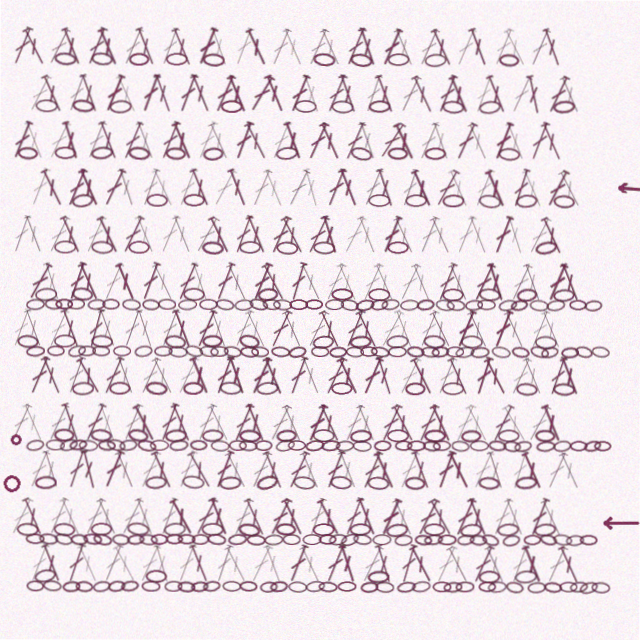chain: (255, 473, 280, 492), (349, 145, 373, 163), (534, 239, 558, 256), (34, 568, 58, 585), (238, 333, 261, 350), (349, 52, 372, 68), (478, 99, 501, 115), (71, 193, 94, 209), (478, 193, 501, 209), (164, 334, 187, 350), (312, 334, 335, 350), (127, 428, 150, 444), (293, 475, 316, 491), (238, 522, 261, 538), (386, 522, 409, 538), (460, 522, 483, 538), (340, 531, 361, 548), (53, 52, 76, 67), (90, 52, 113, 67), (312, 52, 335, 67), (71, 99, 94, 114), (552, 99, 575, 114), (90, 146, 113, 161), (127, 146, 150, 161), (275, 146, 298, 161), (515, 193, 538, 208), (71, 287, 94, 302), (478, 287, 501, 302), (386, 334, 409, 349), (423, 334, 446, 349), (145, 381, 168, 396), (219, 381, 242, 396), (256, 381, 279, 396), (182, 475, 205, 490), (330, 475, 353, 490), (515, 475, 538, 490), (127, 522, 150, 537), (164, 522, 187, 537), (497, 522, 520, 537), (534, 522, 557, 537), (515, 569, 538, 584), (579, 579, 600, 595), (257, 287, 279, 302), (516, 287, 538, 302), (441, 100, 464, 114), (201, 241, 224, 255), (349, 335, 372, 349), (90, 429, 113, 443), (145, 476, 168, 490), (219, 476, 242, 490), (367, 476, 390, 490), (478, 476, 501, 490), (481, 532, 501, 548), (248, 297, 269, 312), (529, 344, 550, 359), (106, 438, 127, 453), (275, 438, 296, 453), (202, 53, 224, 67), (424, 53, 446, 67), (109, 100, 131, 114), (331, 100, 353, 114), (202, 147, 224, 161), (498, 147, 520, 161), (553, 194, 575, 208), (91, 241, 113, 255), (276, 241, 298, 255), (313, 241, 335, 255), (35, 288, 57, 302), (553, 288, 575, 302), (17, 335, 39, 349), (91, 335, 113, 349), (535, 335, 557, 349), (72, 382, 94, 396), (516, 382, 538, 396), (553, 382, 575, 396), (165, 429, 187, 443), (202, 429, 224, 443), (239, 429, 261, 443), (276, 429, 298, 443), (350, 429, 372, 443), (35, 476, 57, 490), (17, 523, 39, 537), (54, 523, 76, 537), (368, 570, 390, 584), (67, 344, 87, 359), (184, 344, 204, 359), (574, 344, 594, 359), (59, 438, 79, 453), (583, 438, 603, 453), (539, 532, 559, 547), (498, 53, 519, 67), (17, 147, 38, 161), (165, 147, 186, 161), (461, 429, 482, 443), (405, 476, 426, 490), (165, 53, 187, 66), (387, 53, 409, 66), (35, 100, 57, 113), (220, 100, 242, 113), (294, 100, 316, 113), (368, 100, 390, 113), (54, 147, 76, 160), (424, 147, 446, 160), (146, 194, 168, 207), (183, 194, 205, 207), (368, 194, 390, 207), (405, 194, 427, 207), (442, 194, 464, 207), (54, 241, 76, 254), (128, 241, 150, 254), (239, 241, 261, 254), (387, 241, 409, 254), (183, 288, 205, 301), (331, 288, 353, 301), (368, 288, 390, 301), (442, 288, 464, 301), (54, 335, 76, 348), (461, 335, 483, 348), (109, 382, 131, 395), (331, 382, 353, 395), (442, 382, 464, 395), (313, 429, 335, 442), (387, 429, 409, 442), (424, 429, 446, 442), (498, 429, 520, 442), (91, 523, 113, 536), (202, 523, 224, 536), (313, 523, 335, 536), (350, 523, 372, 536), (424, 523, 446, 536), (146, 570, 168, 583), (479, 570, 501, 583), (215, 298, 235, 312), (355, 298, 375, 312), (435, 298, 455, 312), (498, 298, 518, 312), (546, 298, 566, 312), (370, 345, 390, 359), (455, 345, 475, 359), (491, 345, 511, 359), (540, 345, 560, 359), (137, 439, 157, 453), (54, 533, 74, 547), (93, 533, 113, 547), (502, 533, 522, 547), (397, 580, 417, 594), (128, 53, 149, 66), (387, 147, 408, 160), (202, 335, 223, 348), (183, 382, 204, 395), (405, 382, 426, 395), (54, 429, 75, 442), (535, 429, 556, 442), (276, 523, 297, 536), (340, 298, 359, 312), (510, 298, 529, 312), (223, 345, 242, 359), (288, 345, 307, 359), (511, 345, 530, 359), (26, 439, 45, 453), (514, 439, 533, 453), (93, 580, 112, 594), (506, 580, 525, 594), (199, 345, 219, 358), (169, 439, 189, 452), (305, 439, 325, 452), (321, 439, 341, 452), (39, 533, 59, 546), (83, 533, 103, 546), (207, 533, 227, 546), (228, 533, 248, 546), (353, 533, 373, 546), (424, 533, 444, 546), (553, 533, 573, 546), (43, 580, 63, 593), (306, 580, 326, 593), (412, 580, 432, 593), (488, 580, 508, 593), (262, 298, 281, 311), (370, 298, 389, 311), (381, 298, 400, 311), (416, 298, 435, 311), (134, 345, 153, 358), (406, 345, 425, 358), (431, 345, 450, 358), (591, 345, 610, 358), (69, 439, 88, 452), (119, 439, 138, 452), (488, 439, 507, 452), (553, 439, 572, 452), (329, 533, 348, 546), (457, 533, 476, 546), (108, 580, 127, 593), (121, 580, 140, 593), (203, 580, 222, 593), (270, 580, 289, 593), (570, 580, 589, 593), (234, 299, 254, 311), (446, 299, 466, 311), (529, 299, 549, 311), (168, 346, 188, 358), (470, 346, 490, 358), (536, 440, 556, 452), (139, 534, 159, 546), (26, 299, 45, 311), (44, 299, 63, 311), (87, 299, 106, 311), (122, 299, 141, 311), (178, 299, 197, 311), (273, 299, 292, 311), (400, 299, 419, 311), (584, 299, 603, 311), (26, 346, 45, 358), (240, 346, 259, 358), (271, 346, 290, 358), (421, 346, 440, 358), (79, 440, 98, 452), (211, 440, 230, 452), (239, 440, 258, 452), (353, 440, 372, 452), (451, 440, 470, 452), (503, 440, 522, 452), (112, 534, 131, 546), (127, 534, 146, 546), (247, 534, 266, 546), (265, 534, 284, 546), (566, 534, 585, 546), (191, 581, 210, 593), (260, 581, 279, 593), (289, 581, 308, 593), (319, 581, 338, 593), (376, 581, 395, 593), (444, 581, 463, 593), (528, 581, 547, 593), (544, 581, 563, 593), (592, 581, 611, 593), (142, 299, 160, 311), (465, 299, 483, 311), (251, 346, 269, 358), (329, 346, 347, 358), (346, 346, 364, 358), (561, 346, 579, 358), (98, 440, 116, 452), (336, 440, 354, 452), (423, 440, 441, 452), (71, 534, 89, 546), (395, 534, 413, 546), (415, 534, 433, 546), (470, 534, 488, 546), (63, 581, 81, 593), (76, 581, 94, 593), (178, 581, 196, 593), (361, 581, 379, 593), (199, 299, 218, 310), (289, 299, 308, 310), (325, 299, 344, 310), (477, 299, 496, 310), (154, 346, 173, 357), (210, 346, 229, 357), (388, 346, 407, 357), (46, 440, 65, 451), (150, 440, 169, 451), (407, 440, 426, 451), (470, 440, 489, 451), (26, 534, 45, 545), (303, 534, 322, 545), (373, 534, 392, 545), (438, 534, 457, 545), (142, 581, 161, 592), (223, 581, 242, 592), (338, 581, 357, 592), (433, 581, 452, 592), (456, 581, 475, 592), (55, 299, 73, 310), (67, 299, 85, 310), (102, 299, 120, 310), (158, 299, 176, 310), (305, 299, 323, 310), (569, 299, 587, 310), (47, 346, 65, 357), (78, 346, 96, 357), (92, 346, 110, 357), (113, 346, 131, 357), (311, 346, 329, 357), (360, 346, 378, 357), (446, 346, 464, 357), (190, 440, 208, 451), (229, 440, 247, 451), (255, 440, 273, 451), (288, 440, 306, 451), (374, 440, 392, 451), (395, 440, 413, 451), (433, 440, 451, 451), (570, 440, 588, 451), (594, 440, 612, 451), (151, 534, 169, 545), (166, 534, 184, 545), (178, 534, 196, 545), (192, 534, 210, 545), (283, 534, 301, 545), (319, 534, 337, 545), (524, 534, 542, 545), (580, 534, 598, 545), (27, 581, 45, 592), (165, 581, 183, 592), (240, 581, 258, 592), (479, 581, 497, 592), (560, 581, 578, 592)
double: (376, 121, 408, 160), (246, 74, 277, 114), (432, 168, 462, 208), (192, 215, 222, 255), (25, 262, 55, 302), (377, 309, 407, 349), (74, 356, 104, 396), (500, 403, 530, 443), (185, 450, 215, 490), (167, 497, 197, 537), (426, 497, 456, 537), (19, 27, 48, 67), (44, 27, 73, 67), (500, 27, 529, 67), (25, 74, 54, 114), (241, 121, 270, 161), (210, 168, 239, 208), (284, 168, 313, 208), (543, 168, 572, 208), (555, 168, 584, 208), (278, 215, 307, 255), (340, 215, 369, 255), (525, 215, 554, 255), (259, 262, 288, 302), (481, 356, 510, 396), (130, 403, 159, 443), (266, 403, 295, 443), (389, 403, 418, 443), (463, 403, 492, 443), (525, 403, 554, 443), (222, 450, 251, 490), (118, 497, 147, 537), (192, 497, 221, 537), (315, 497, 344, 537), (414, 497, 443, 537), (111, 544, 140, 584), (222, 544, 251, 584), (407, 544, 436, 584), (444, 544, 473, 584), (242, 27, 270, 67), (316, 27, 344, 67), (427, 27, 455, 67), (112, 74, 140, 114), (396, 74, 424, 114), (408, 74, 436, 114), (507, 74, 535, 114), (544, 74, 572, 114), (45, 121, 73, 161), (390, 121, 418, 161), (452, 121, 480, 161), (38, 168, 66, 208), (100, 168, 128, 208), (149, 168, 177, 208), (45, 215, 73, 255), (94, 215, 122, 255), (119, 215, 147, 255), (205, 215, 233, 255), (304, 215, 332, 255), (390, 215, 418, 255), (538, 215, 566, 255), (149, 262, 177, 302), (223, 262, 251, 302), (297, 262, 325, 302), (396, 262, 424, 302), (470, 262, 498, 302), (507, 262, 535, 302), (242, 309, 270, 349), (267, 309, 295, 349), (304, 309, 332, 349), (316, 309, 344, 349), (353, 309, 381, 349), (427, 309, 455, 349), (464, 309, 492, 349), (149, 356, 177, 396), (174, 356, 202, 396), (322, 356, 350, 396), (334, 356, 362, 396), (396, 356, 424, 396), (408, 356, 436, 396), (507, 356, 535, 396), (205, 403, 233, 443), (316, 403, 344, 443), (427, 403, 455, 443), (489, 403, 517, 443), (285, 450, 313, 490), (371, 450, 399, 490), (445, 450, 473, 490), (556, 450, 584, 490), (8, 497, 36, 537), (57, 497, 85, 537), (267, 497, 295, 537), (279, 497, 307, 537), (538, 497, 566, 537), (248, 544, 276, 584), (297, 544, 325, 584), (359, 544, 387, 584), (433, 544, 461, 584), (470, 544, 498, 584), (94, 27, 121, 67), (119, 27, 146, 67), (168, 27, 195, 67), (267, 27, 294, 67), (279, 27, 306, 67), (304, 27, 331, 67), (378, 27, 405, 67), (390, 27, 417, 67), (415, 27, 442, 67), (452, 27, 479, 67), (526, 27, 553, 67), (38, 74, 65, 114), (211, 74, 238, 114), (223, 74, 250, 114), (445, 74, 472, 114), (556, 74, 583, 114), (119, 121, 146, 161), (168, 121, 195, 161), (205, 121, 232, 161), (304, 121, 331, 161), (316, 121, 343, 161), (341, 121, 368, 161), (415, 121, 442, 161), (464, 121, 491, 161), (538, 121, 565, 161), (63, 168, 90, 208), (75, 168, 102, 208), (248, 168, 275, 208), (260, 168, 287, 208), (408, 168, 435, 208), (445, 168, 472, 208), (482, 168, 509, 208), (519, 168, 546, 208), (57, 215, 84, 255), (82, 215, 109, 255), (267, 215, 294, 255), (427, 215, 454, 255), (75, 262, 102, 302), (100, 262, 127, 302), (112, 262, 139, 302), (174, 262, 201, 302), (322, 262, 349, 302), (334, 262, 361, 302), (359, 262, 386, 302), (371, 262, 398, 302), (408, 262, 435, 302), (445, 262, 472, 302), (544, 262, 571, 302), (45, 309, 72, 349), (193, 309, 220, 349), (279, 309, 306, 349), (501, 309, 528, 349), (538, 309, 565, 349), (26, 356, 53, 396), (38, 356, 65, 396), (100, 356, 127, 396), (137, 356, 164, 396), (248, 356, 275, 396), (260, 356, 287, 396), (359, 356, 386, 396), (445, 356, 472, 396), (8, 403, 35, 443), (20, 403, 47, 443), (45, 403, 72, 443), (82, 403, 109, 443), (168, 403, 195, 443), (230, 403, 257, 443), (279, 403, 306, 443), (304, 403, 331, 443), (341, 403, 368, 443), (353, 403, 380, 443), (378, 403, 405, 443), (415, 403, 442, 443), (452, 403, 479, 443), (26, 450, 53, 490), (112, 450, 139, 490), (137, 450, 164, 490), (149, 450, 176, 490), (248, 450, 275, 490), (260, 450, 287, 490), (297, 450, 324, 490), (359, 450, 386, 490), (396, 450, 423, 490), (470, 450, 497, 490), (519, 450, 546, 490), (544, 450, 571, 490), (20, 497, 47, 537), (82, 497, 109, 537), (94, 497, 121, 537), (230, 497, 257, 537), (242, 497, 269, 537), (378, 497, 405, 537), (390, 497, 417, 537), (452, 497, 479, 537), (75, 544, 102, 584), (137, 544, 164, 584), (482, 544, 509, 584), (544, 544, 571, 584), (556, 544, 583, 584), (9, 26, 35, 67), (58, 26, 84, 67), (83, 26, 109, 67), (132, 26, 158, 67), (194, 26, 220, 67), (342, 26, 368, 67), (490, 26, 516, 67), (101, 73, 127, 114), (187, 73, 213, 114), (261, 73, 287, 114), (286, 73, 312, 114), (323, 73, 349, 114), (434, 73, 460, 114), (483, 73, 509, 114), (9, 120, 35, 161), (21, 120, 47, 161), (83, 120, 109, 161), (95, 120, 121, 161), (132, 120, 158, 161), (157, 120, 183, 161), (194, 120, 220, 161), (268, 120, 294, 161), (490, 120, 516, 161), (502, 120, 528, 161), (27, 167, 53, 208), (187, 167, 213, 208), (224, 167, 250, 208), (323, 167, 349, 208), (335, 167, 361, 208), (360, 167, 386, 208), (471, 167, 497, 208), (132, 214, 158, 255), (157, 214, 183, 255), (169, 214, 195, 255), (243, 214, 269, 255), (354, 214, 380, 255), (379, 214, 405, 255), (416, 214, 442, 255), (453, 214, 479, 255), (465, 214, 491, 255), (490, 214, 516, 255), (212, 261, 238, 302), (249, 261, 275, 302), (434, 261, 460, 302), (557, 261, 583, 302), (157, 308, 183, 349), (169, 308, 195, 349), (231, 308, 257, 349), (342, 308, 368, 349), (391, 308, 417, 349), (416, 308, 442, 349), (453, 308, 479, 349), (490, 308, 516, 349), (527, 308, 553, 349), (187, 355, 213, 396), (298, 355, 324, 396), (434, 355, 460, 396), (520, 355, 546, 396), (557, 355, 583, 396), (120, 402, 146, 443), (194, 402, 220, 443), (243, 402, 269, 443), (539, 402, 565, 443), (101, 449, 127, 490), (175, 449, 201, 490), (335, 449, 361, 490), (46, 496, 72, 537), (132, 496, 158, 537), (206, 496, 232, 537), (354, 496, 380, 537), (465, 496, 491, 537), (490, 496, 516, 537), (502, 496, 528, 537), (527, 496, 553, 537), (27, 543, 53, 584), (39, 543, 65, 584), (101, 543, 127, 584), (187, 543, 213, 584), (286, 543, 312, 584), (323, 543, 349, 584), (520, 543, 546, 584), (157, 26, 182, 67), (206, 26, 231, 67), (231, 26, 256, 67), (465, 26, 490, 67), (539, 26, 564, 67), (64, 73, 89, 114), (76, 73, 101, 114), (138, 73, 163, 114), (150, 73, 175, 114), (175, 73, 200, 114), (335, 73, 360, 114), (372, 73, 397, 114), (471, 73, 496, 114), (231, 120, 256, 161), (280, 120, 305, 161), (428, 120, 453, 161), (527, 120, 552, 161), (138, 167, 163, 208), (175, 167, 200, 208), (9, 214, 34, 255), (21, 214, 46, 255), (231, 214, 256, 255), (138, 261, 163, 302), (520, 261, 545, 302), (9, 308, 34, 349), (21, 308, 46, 349), (58, 308, 83, 349), (95, 308, 120, 349), (120, 308, 145, 349), (206, 308, 231, 349), (64, 355, 89, 396), (113, 355, 138, 396), (212, 355, 237, 396), (224, 355, 249, 396), (286, 355, 311, 396), (95, 402, 120, 443), (157, 402, 182, 443), (212, 449, 237, 490), (323, 449, 348, 490), (409, 449, 434, 490), (434, 449, 459, 490), (157, 496, 182, 537), (342, 496, 367, 537), (175, 543, 200, 584), (261, 543, 286, 584), (508, 543, 533, 584), (355, 26, 379, 67), (299, 73, 323, 114), (361, 73, 385, 114), (355, 120, 379, 161), (114, 167, 138, 208), (373, 167, 397, 208), (398, 167, 422, 208), (509, 167, 533, 208), (503, 214, 527, 255), (40, 261, 64, 302), (65, 261, 89, 302), (188, 261, 212, 302), (484, 261, 508, 302), (133, 308, 157, 349), (472, 355, 496, 396), (546, 355, 570, 396), (59, 402, 83, 443), (65, 449, 89, 490), (484, 449, 508, 490), (306, 496, 330, 537), (65, 543, 89, 584), (213, 543, 237, 584), (336, 543, 360, 584), (59, 120, 82, 161), (318, 214, 341, 255), (287, 261, 310, 302), (373, 355, 396, 396), (40, 449, 63, 490), (509, 449, 532, 490), (151, 543, 174, 584), (373, 543, 396, 584), (398, 543, 421, 584), (300, 167, 322, 208), (85, 308, 107, 349), (78, 450, 100, 490), (523, 74, 543, 114)
noise: (601, 515, 640, 530), (2, 474, 23, 495), (615, 182, 640, 193), (10, 434, 23, 447)
